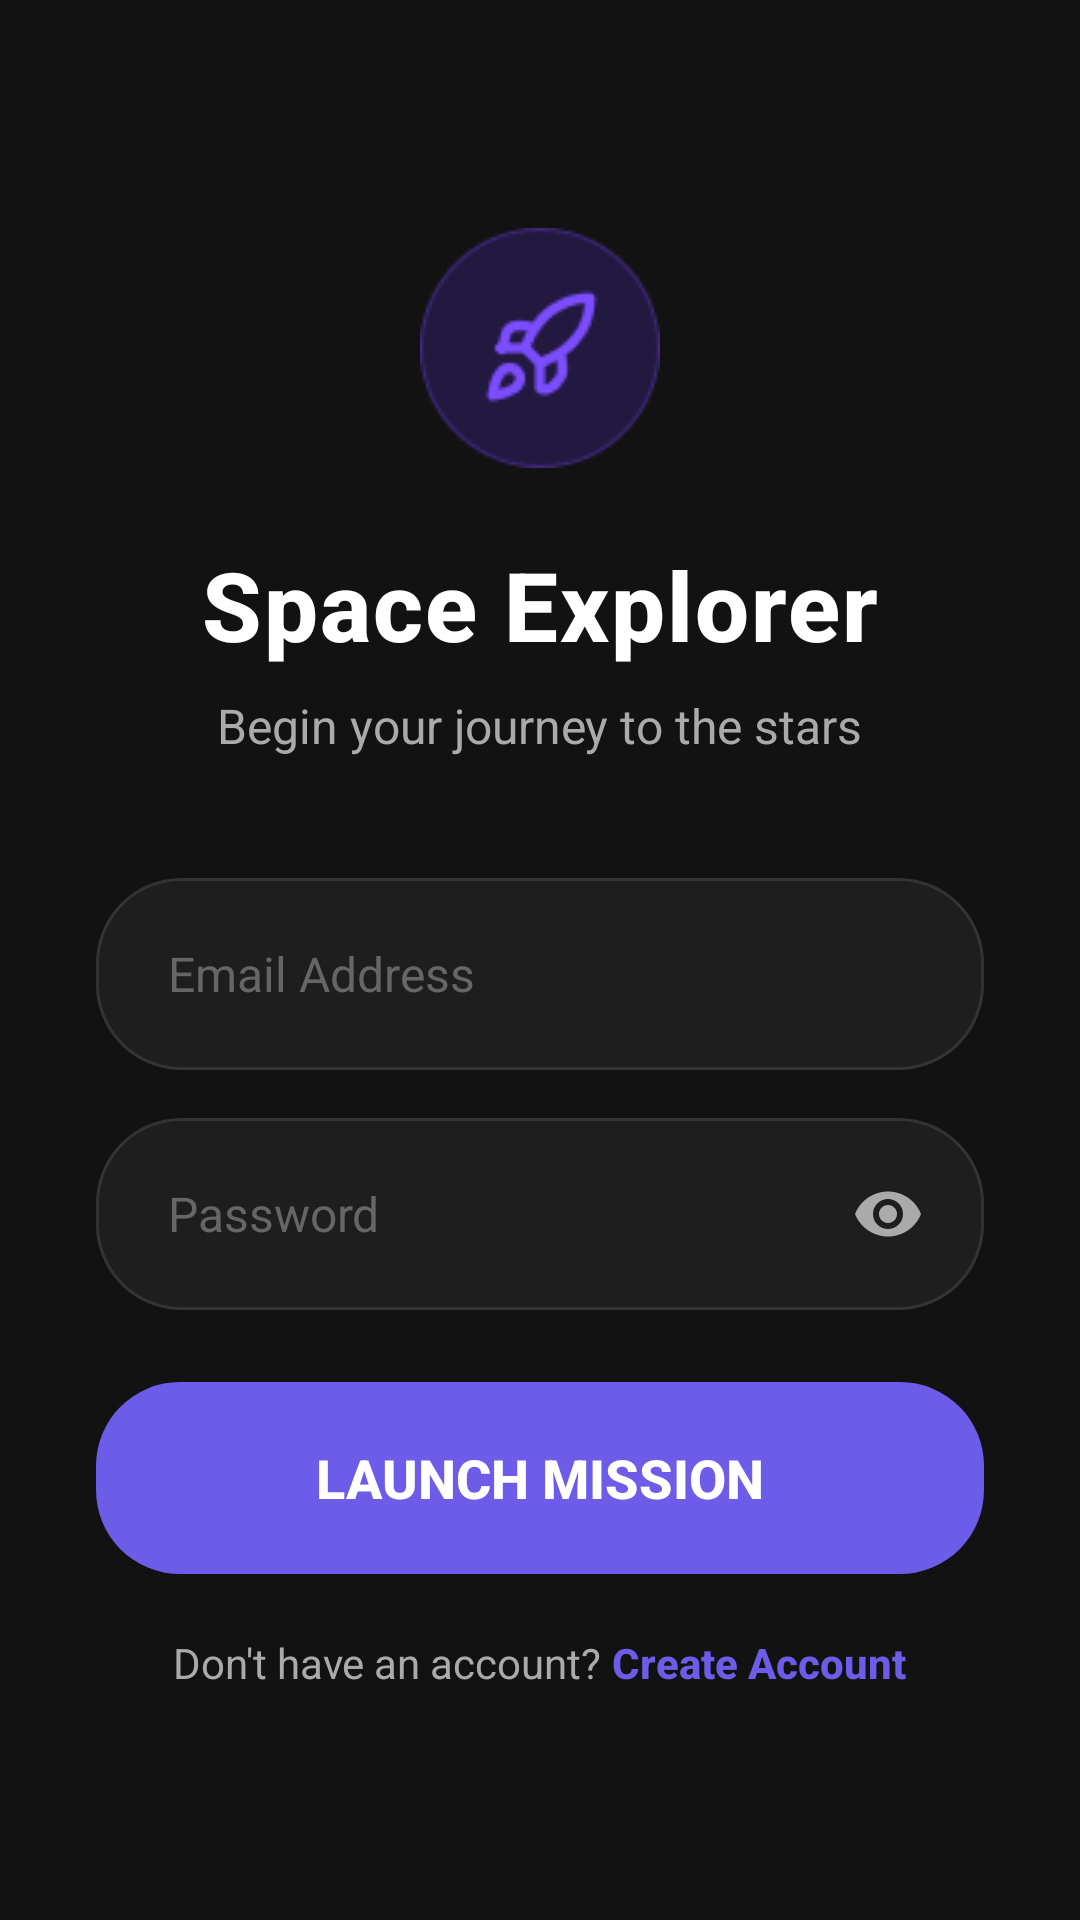

Icons on this 1080px×1920px Android screen, each with its box as (x1, y1, x2, y2):
eye: (855, 1191, 921, 1237)
